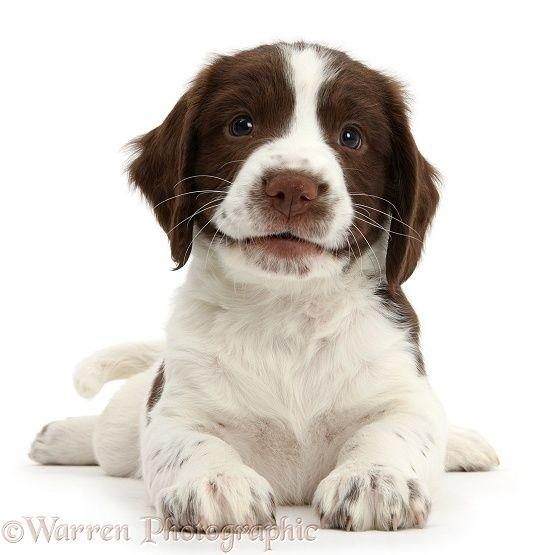puppy-dog: (23, 34, 503, 532)
